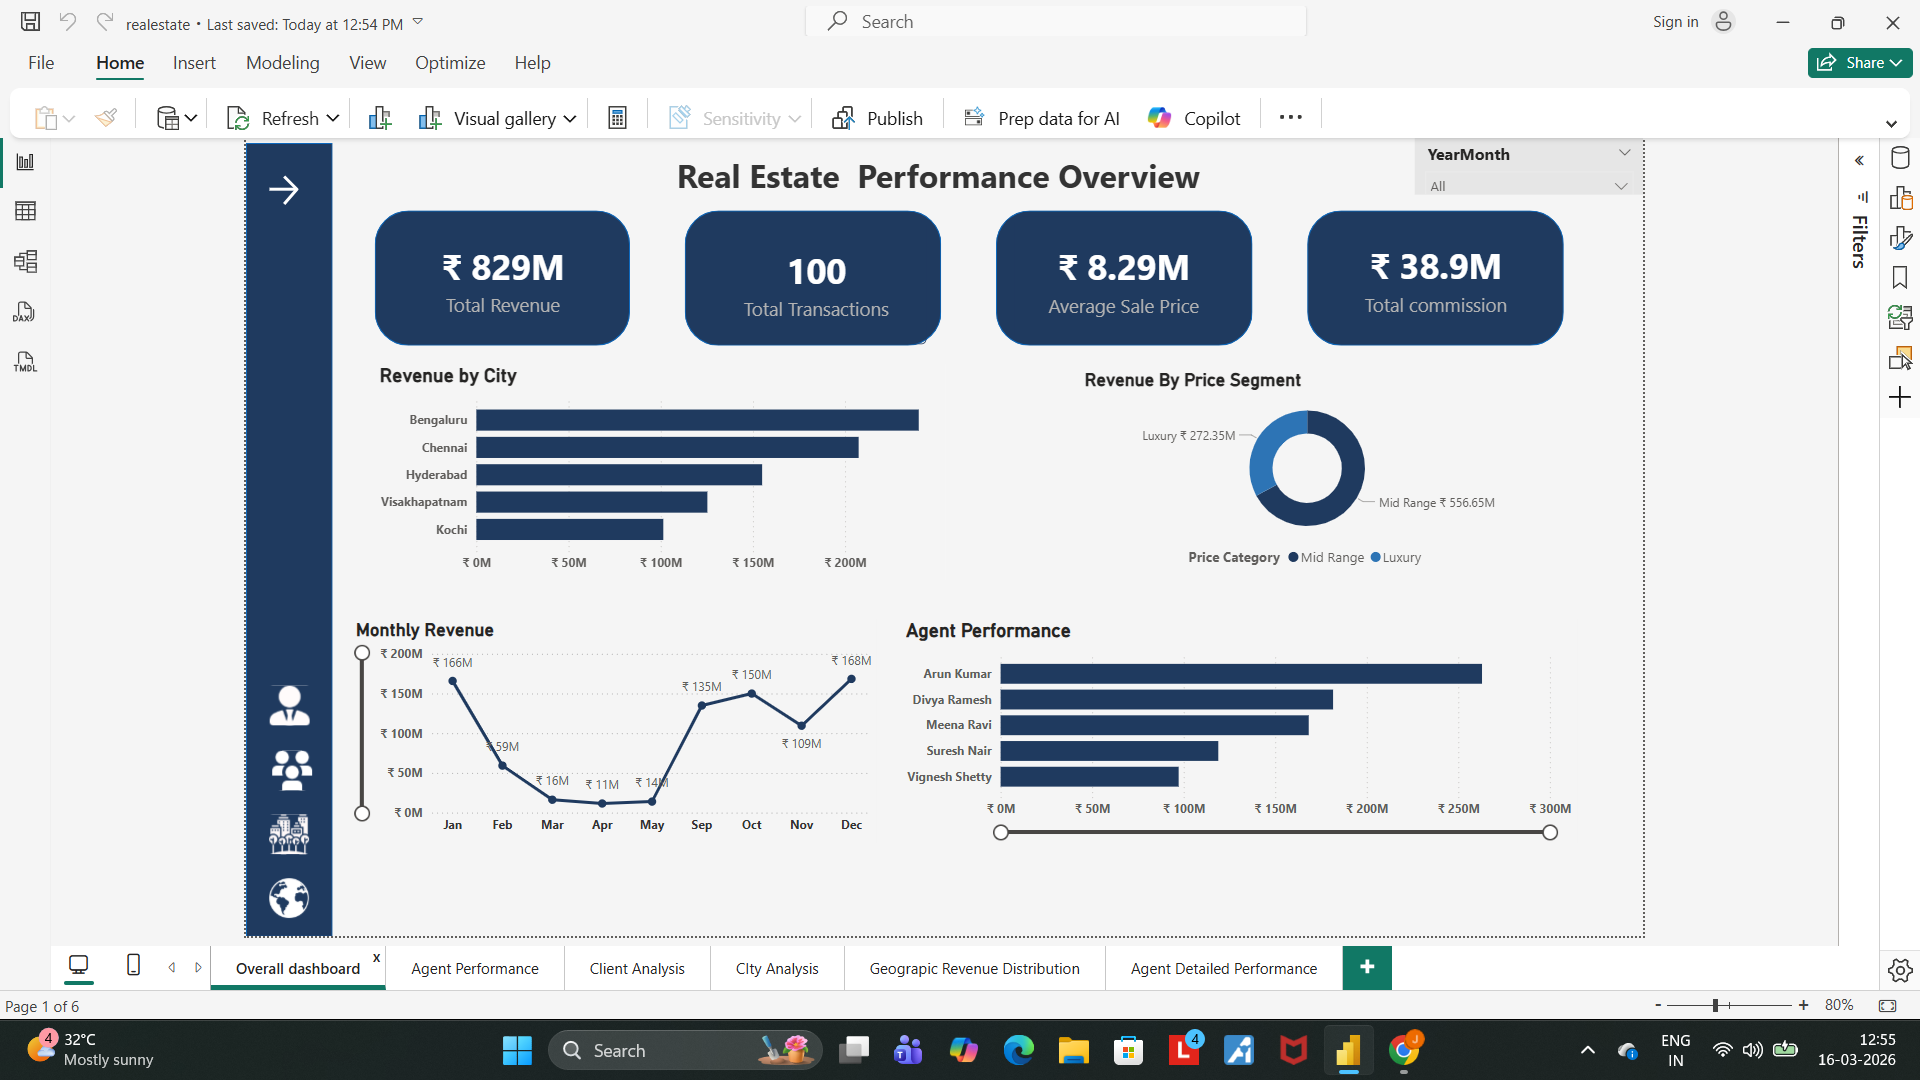

What the dashboard file says about the page in this screenshot:
{"tool":"powerbi","page":{"name":"Overall dashboard","canvas":[1400,800],"ordinal":0},"visuals":[{"type":"textbox","box":[0,11.2,1263.9,89.6],"z":0},{"type":"shape","box":[128.5,73.3,255.7,135.5],"z":1000},{"type":"card","title":"TOTAL REVENUE","fields":{"Values":["measure.Total_Revenue"]},"box":[147.9,78.8,219.8,124.4],"z":2000},{"type":"shape","box":[1062.9,73.3,257.1,135.5],"z":3000},{"type":"shape","box":[751,73.3,257.1,135.5],"z":4000},{"type":"shape","box":[439.1,73.3,257.1,135.5],"z":5000},{"type":"card","fields":{"Values":["measure.Total_transactions"]},"box":[460.3,82.9,221.1,124.4],"z":6000},{"type":"card","fields":{"Values":["measure.avg_sale_price"]},"box":[769.9,78.8,218.4,124.4],"z":7000},{"type":"card","fields":{"Values":["measure.Total_commission"]},"box":[1078.1,94,228.1,94],"z":8000},{"type":"lineChart","title":"Monthly Revenue ","fields":{"Category":["Calendar.Month Name"],"Y":["measure.Total_Revenue"]},"box":[105,482.4,526.6,223.9],"z":9000},{"type":"barChart","title":"Revenue by City","fields":{"Category":["realestate properties.City"],"Y":["measure.Total_Revenue"]},"box":[128.5,226.7,572.2,217],"z":10000},{"type":"donutChart","title":"Revenue By Price Segment","fields":{"Category":["realestate transactions.Price Category"],"Y":["measure.Total_Revenue"]},"box":[834.8,232.2,456.1,207.3],"z":11000},{"type":"clusteredBarChart","title":"Agent Performance","fields":{"Category":["realestate agents.Agents name"],"Y":["measure.Total_Revenue"]},"box":[656.5,482.4,677.3,223.9],"z":12000},{"type":"shape","box":[0,4.7,86.8,795.3],"z":13000},{"type":"actionButton","box":[17.4,33.1,99.4,39.5],"z":14000},{"type":"actionButton","box":[0,735.4,86.8,50.5],"z":15000},{"type":"actionButton","box":[0,670.7,86.8,52.1],"z":16000},{"type":"actionButton","box":[6.3,607.5,80.5,50.5],"z":17000},{"type":"actionButton","box":[3.2,542.8,80.5,52.1],"z":18000},{"type":"slicer","fields":{"Values":["Calendar.YearMonth"]},"box":[1170.7,0,229.4,56.7],"z":19000}]}

Visuals, with their boxes on the page's 1400x800 design canvas (x1, y1, x2, y2). These are canvas units, not pixel positions in the 1920x1080 screenshot, which may show the page scaled, cropped or inside an application window:
textbox: region(0, 11, 1264, 101)
shape: region(128, 73, 384, 209)
"TOTAL REVENUE" card: region(148, 79, 368, 203)
shape: region(1063, 73, 1320, 209)
shape: region(751, 73, 1008, 209)
shape: region(439, 73, 696, 209)
card - measure.Total_transactions: region(460, 83, 681, 207)
card - measure.avg_sale_price: region(770, 79, 988, 203)
card - measure.Total_commission: region(1078, 94, 1306, 188)
"Monthly Revenue " lineChart: region(105, 482, 632, 706)
"Revenue by City" barChart: region(128, 227, 701, 444)
"Revenue By Price Segment" donutChart: region(835, 232, 1291, 440)
"Agent Performance" clusteredBarChart: region(656, 482, 1334, 706)
shape: region(0, 5, 87, 800)
actionButton: region(17, 33, 117, 73)
actionButton: region(0, 735, 87, 786)
actionButton: region(0, 671, 87, 723)
actionButton: region(6, 608, 87, 658)
actionButton: region(3, 543, 84, 595)
slicer - Calendar.YearMonth: region(1171, 0, 1400, 57)
